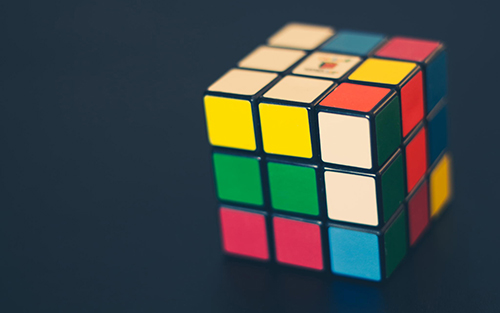cube: (190, 14, 473, 284)
